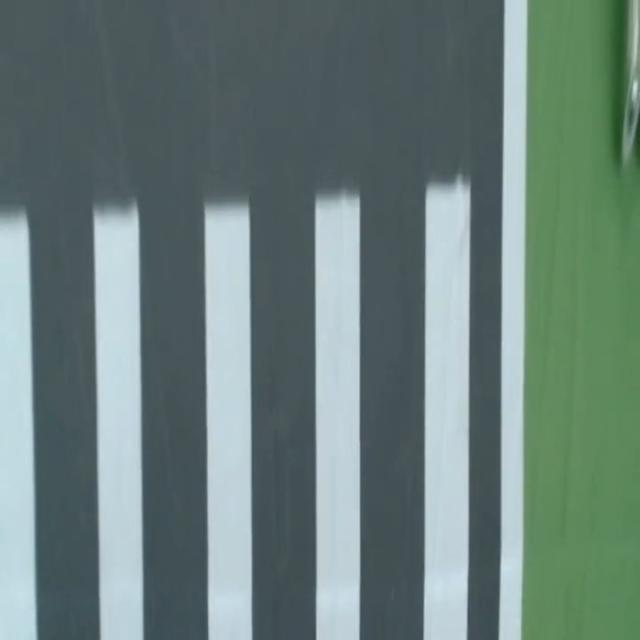right: (499, 0, 526, 639)
